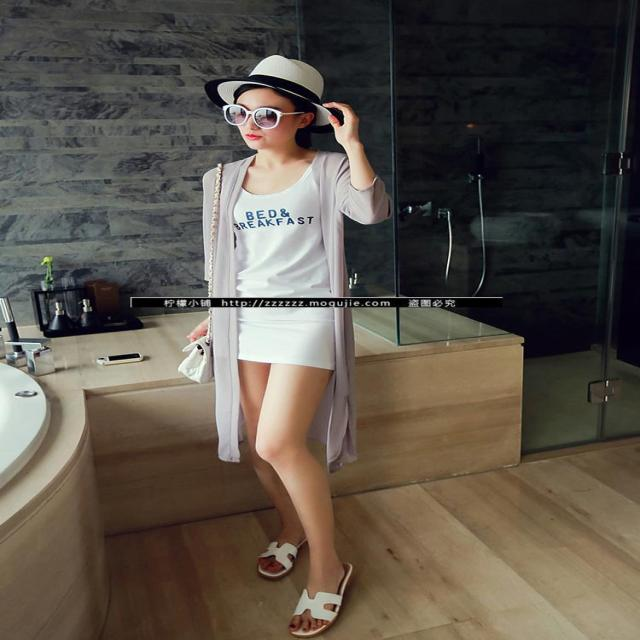long-sleeve-dress: (150, 144, 440, 487)
